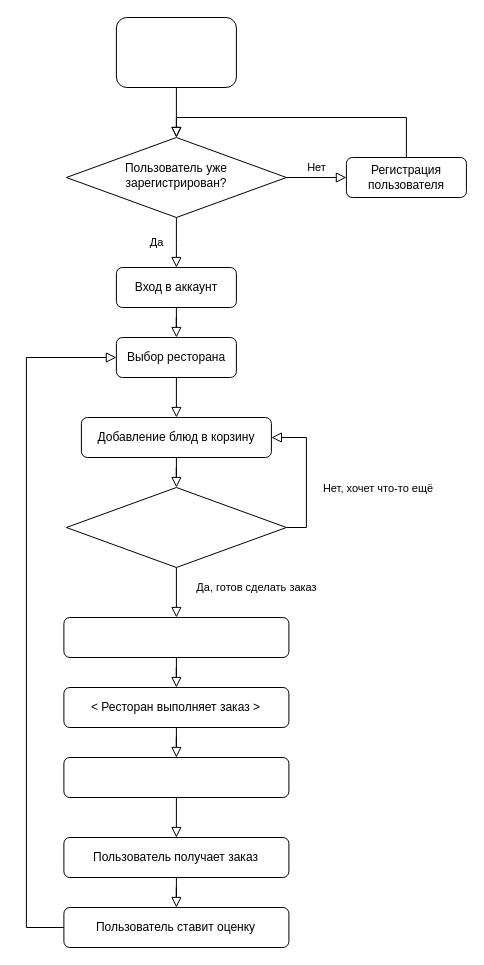
The diagram is 484 pixels wide and 965 high, and some of its shapes have lost their labels. Here are the shapes that lost their labels. From the top down, the centre of each, then its label:
At [175,52]: "Пользователь скачивает приложение".
At [175,527]: "Пользователь собрал весь заказ?".
At [176,637]: "Заказ отправляется в ресторан".
At [176,777]: "< Курьер отвозит заказ >".
